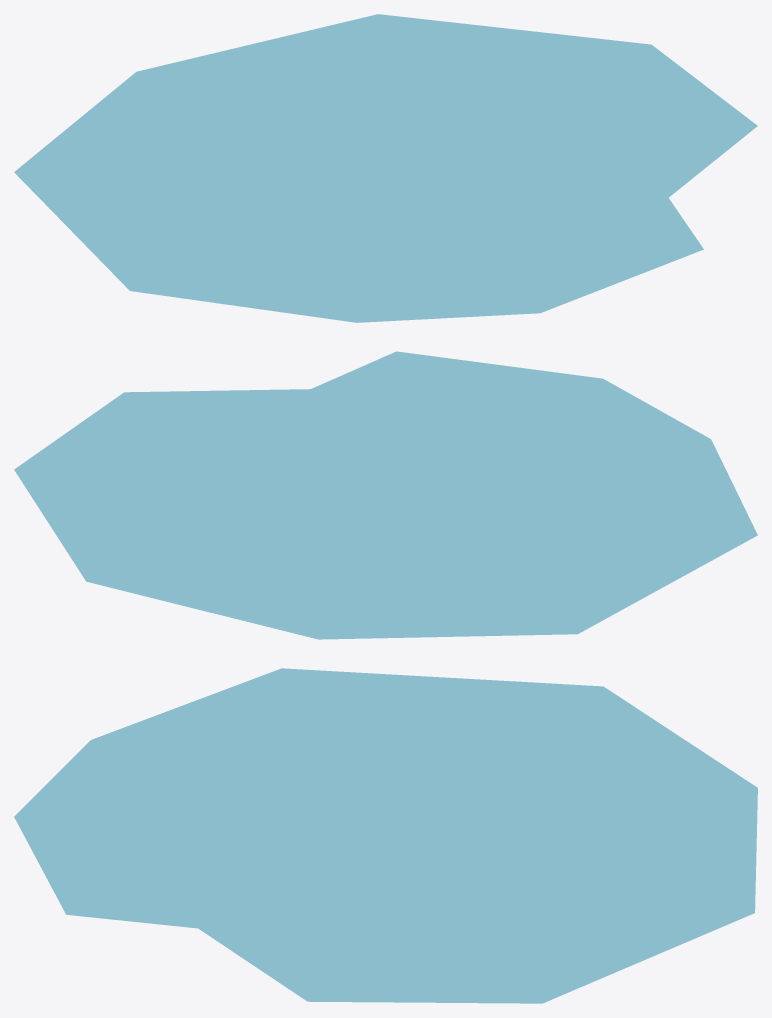
File: Secret ingredients assets 2.fbx
The picture shows the model from 3 angles, top to bottom: view 1: azimuth 30°, elevation 25°; view 2: azimuth 150°, elevation 25°; view 3: azimuth 270°, elevation 25°; orthographic projection. The views are drawn at different scales.
Visible parts, largest first — view 1: Plane.001; view 2: Plane.001; view 3: Plane.001.
Part boxes in pixels (box(x1,y1,x2,y2)): Plane.001: box(14, 14, 757, 322); Plane.001: box(14, 351, 757, 639); Plane.001: box(14, 668, 757, 1003).
Size of the model in its own units: 179 by 2.73e-05 by 167.
